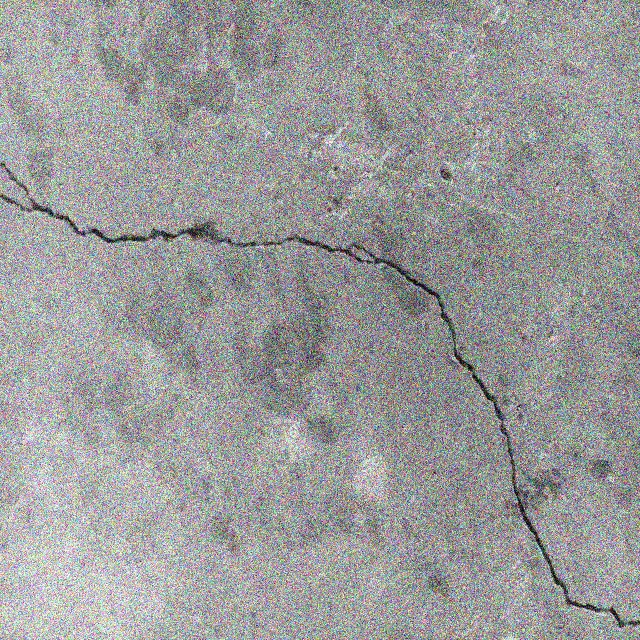SurfaceCrack: (0, 16, 637, 482)
